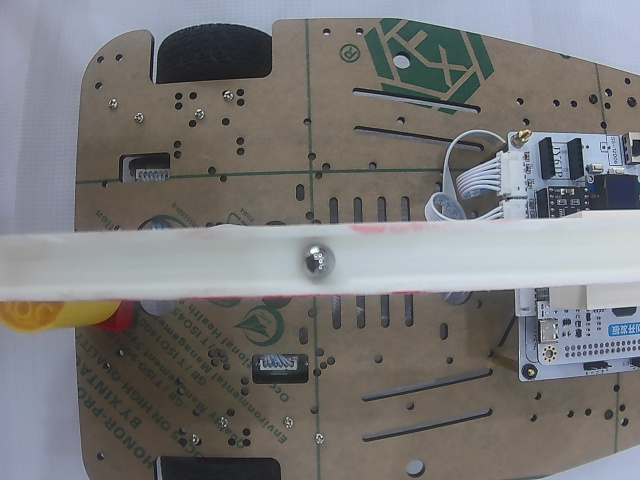steelball: (299, 243, 337, 279)
